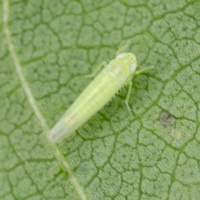insect: (49, 53, 136, 142)
